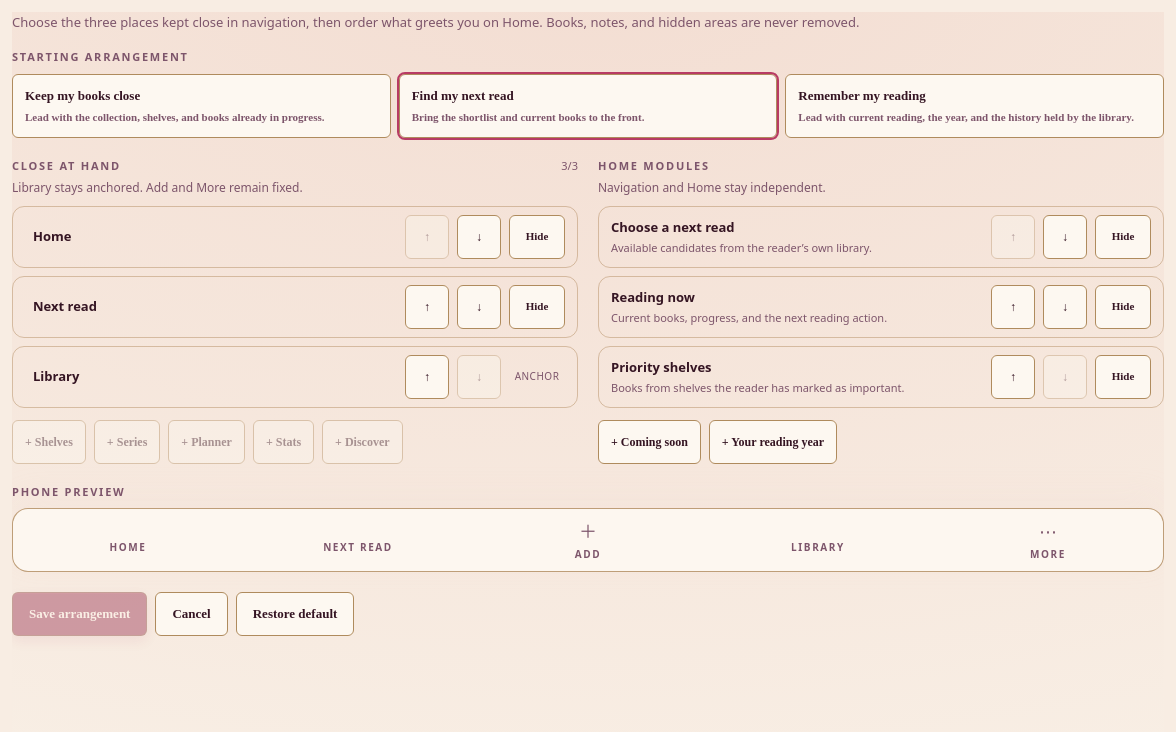
Scenario: ArrangementEditor › saves a chosen starting arrangement explicitly
The width and height of the screenshot is (1176, 732).
Step 1. Click the button "Keep my books close" → click(83, 96), box 12,74 -> 391,138
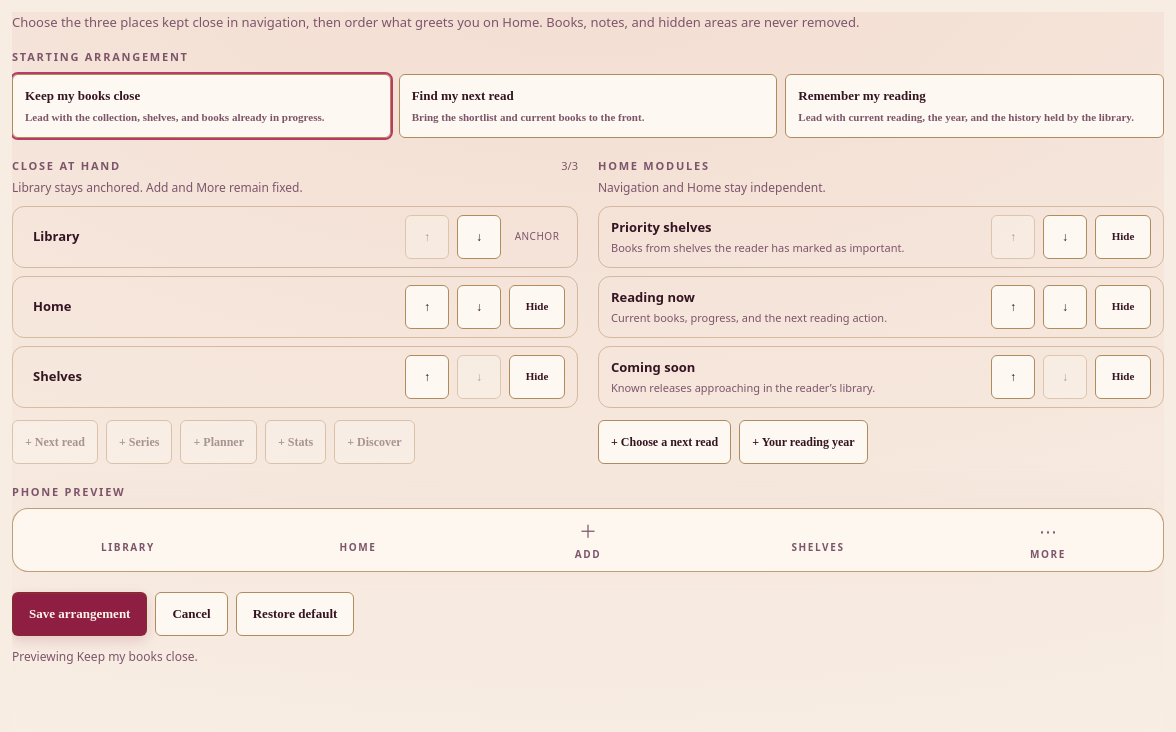
Step 2. Click the button "Save arrangement" → click(80, 614), box 12,592 -> 148,636
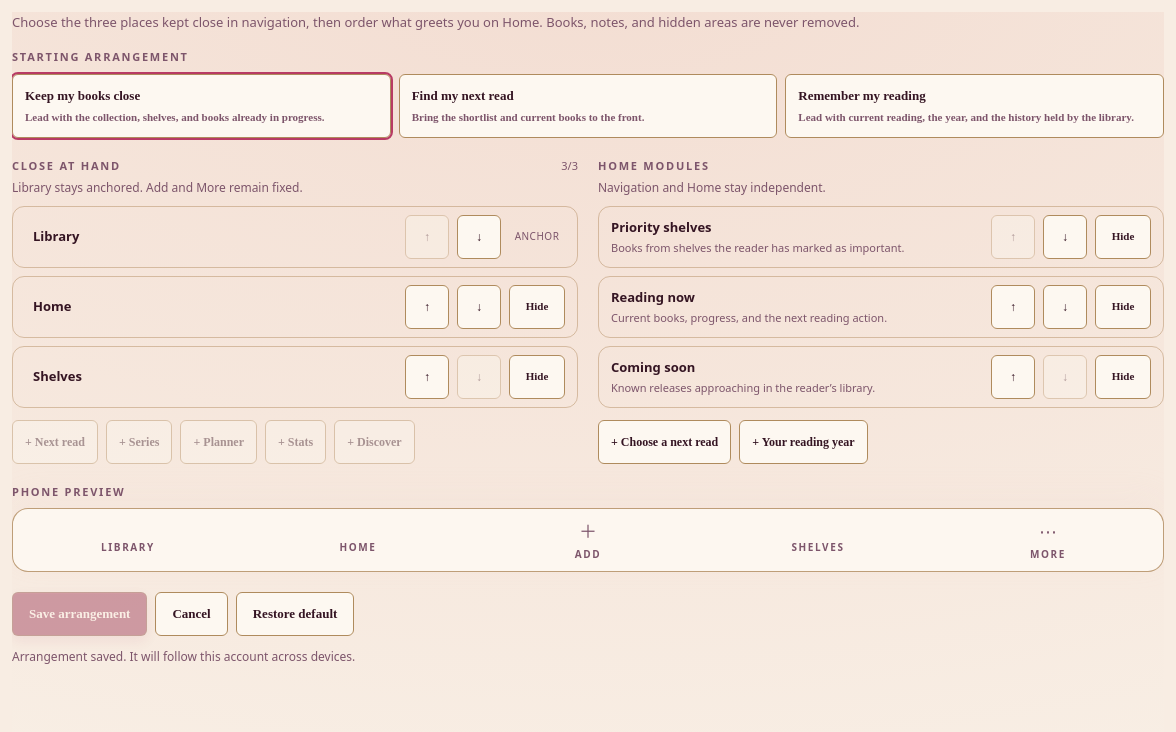
Check: the text "Arrangement saved. It will follow this account across devices." is shown, box 12,648 -> 355,665
